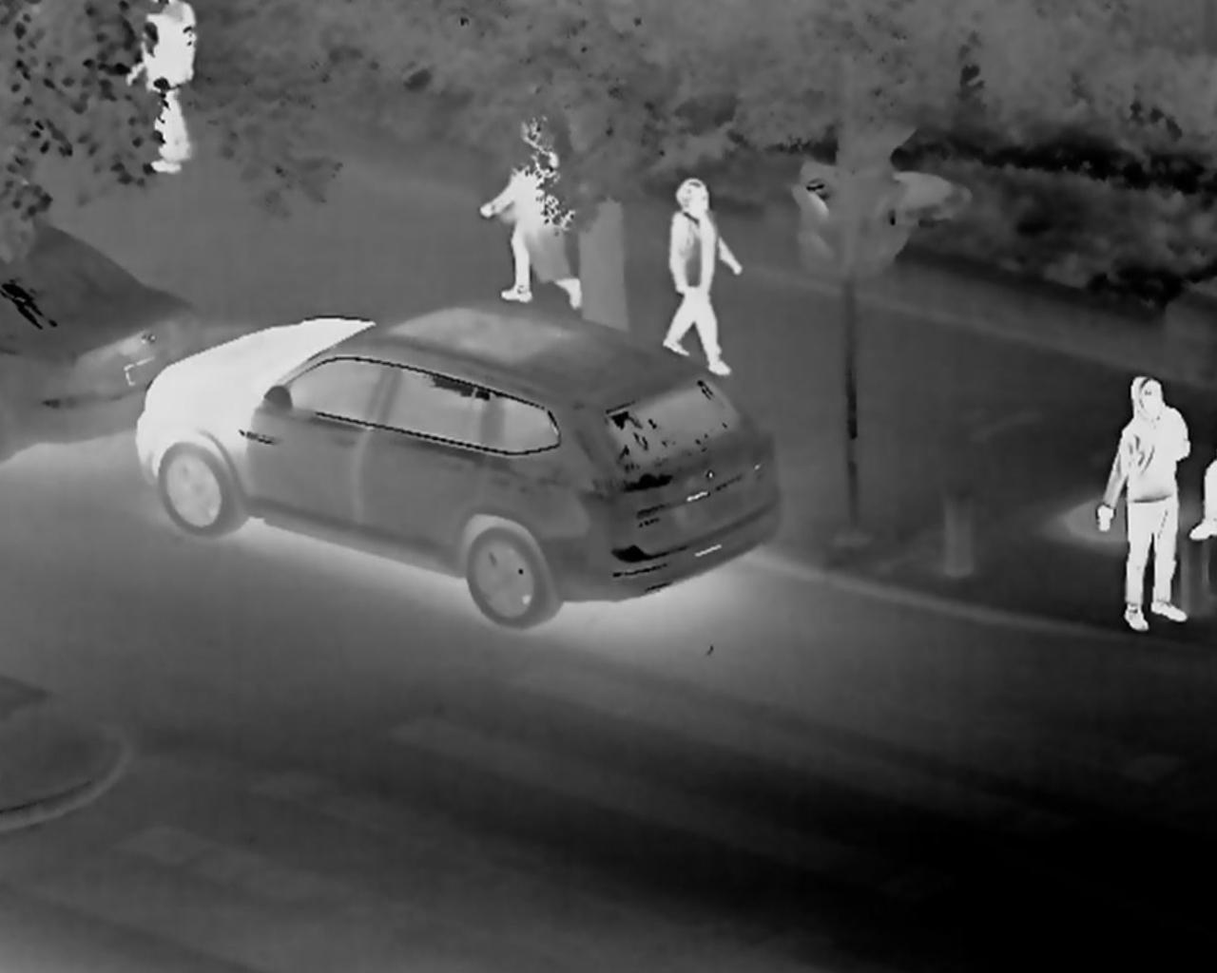person: (1091, 364, 1196, 635), (473, 109, 586, 311), (660, 174, 742, 377)
